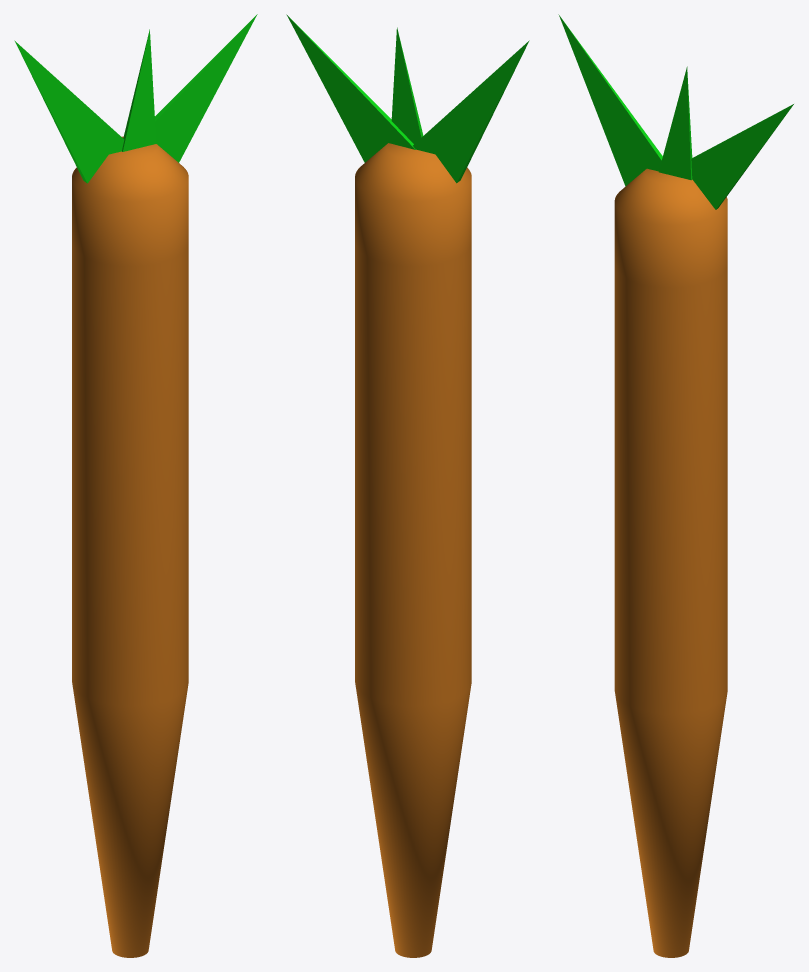
The model's file is Carrot.fbx.
3 views of the same model, side by side, from view 1: azimuth 30°, elevation 25°; view 2: azimuth 150°, elevation 25°; view 3: azimuth 330°, elevation 25° (orthographic). The views are drawn at different scales.
Parts seen in each view (by area): view 1: Cylinder.001, Cylinder.003, Cylinder, Cylinder.002; view 2: Cylinder.001, Cylinder.003, Cylinder, Cylinder.002; view 3: Cylinder.001, Cylinder.003, Cylinder, Cylinder.002.
Part boxes in pixels (x1,y1,x2,y2): Cylinder.001: (72,136,188,957); Cylinder.003: (14,40,124,183); Cylinder: (155,14,257,162); Cylinder.002: (122,29,156,151); Cylinder.001: (355,143,471,957); Cylinder.003: (413,40,529,183); Cylinder: (286,14,415,162); Cylinder.002: (391,27,423,143); Cylinder.001: (614,168,727,957); Cylinder.003: (558,14,662,186); Cylinder: (691,104,793,209); Cylinder.002: (659,66,692,180).
Bounding box in the file's own units: 75.15 × 277 × 31.23.
